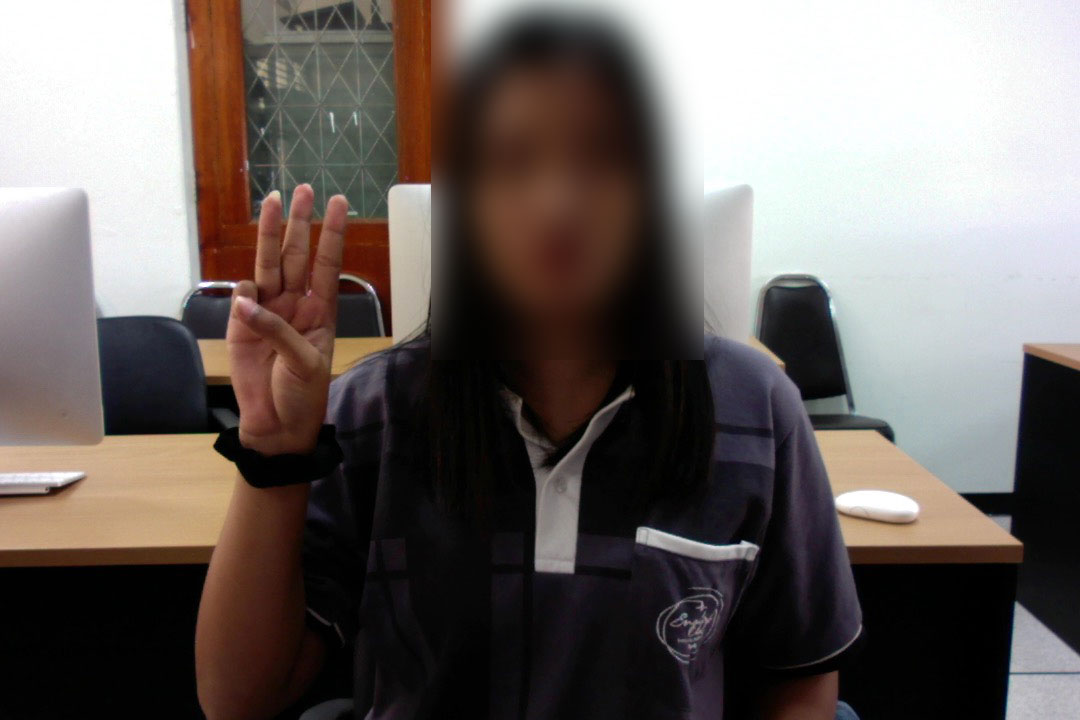wor: (208, 186, 370, 444)
